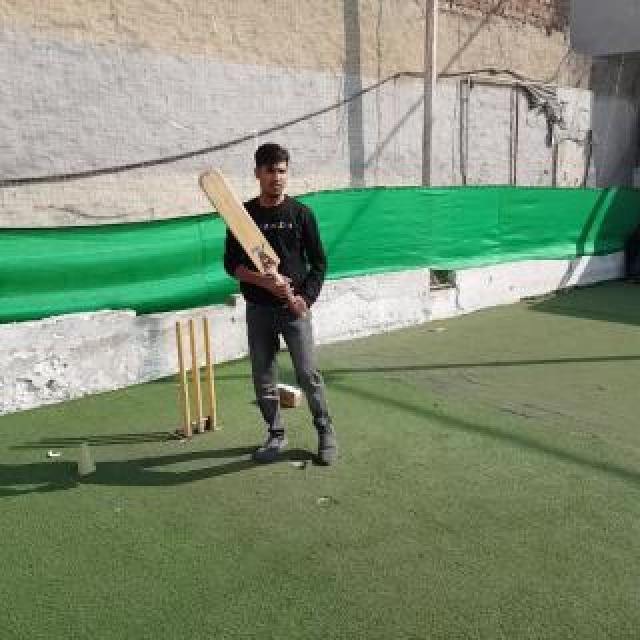bat: (198, 168, 306, 316)
